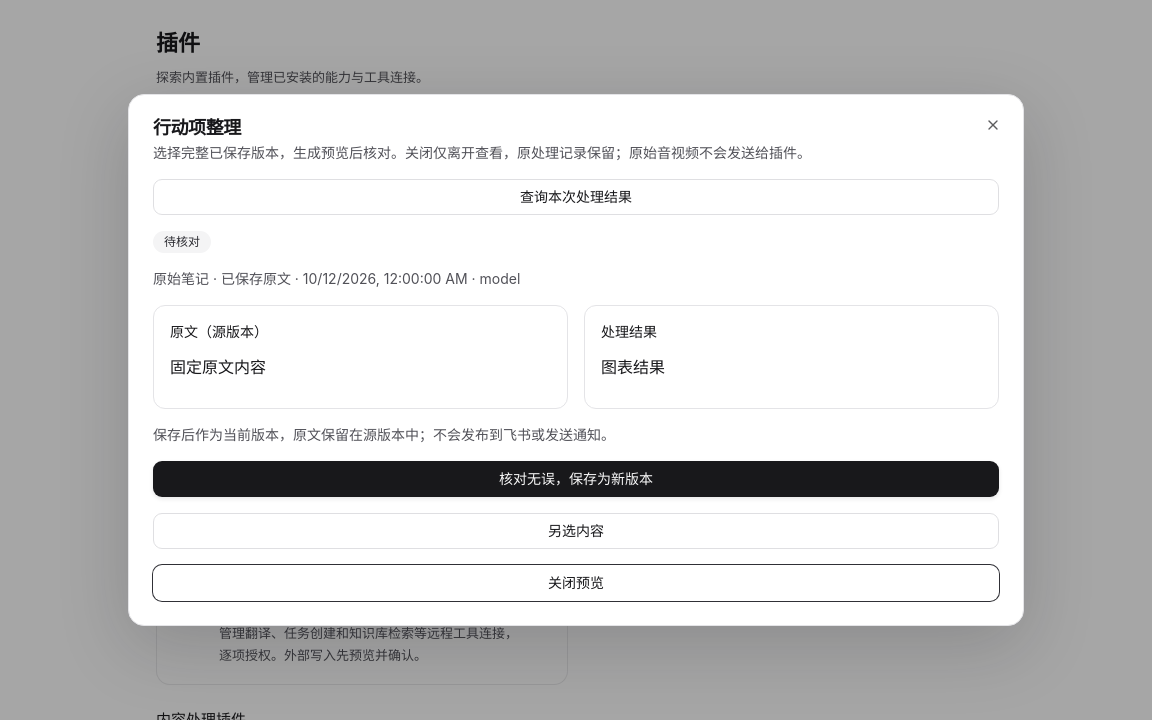
it: retains an uncertain save, disables resubmission until GET, and marks saved only on confirmation
The image size is (1152, 720).
Expected: the text "图表结果" is shown, [601,357,665,377]
Click the button "核对无误，保存为新版本" at (576, 479), box [153,461,999,497]
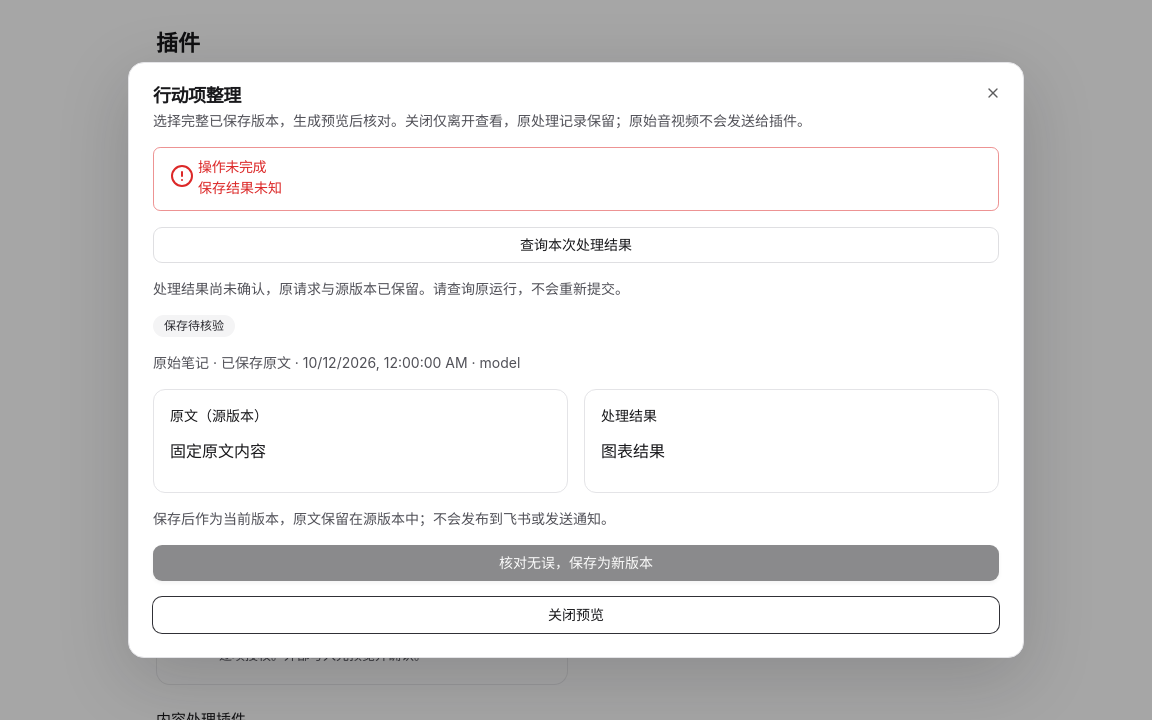
Now the text "保存结果未知" is shown, box [198,178,282,198]
Now the button "核对无误，保存为新版本" is disabled, box [153,545,999,581]
Click the button "查询本次处理结果" at (576, 245), box [153,227,999,263]
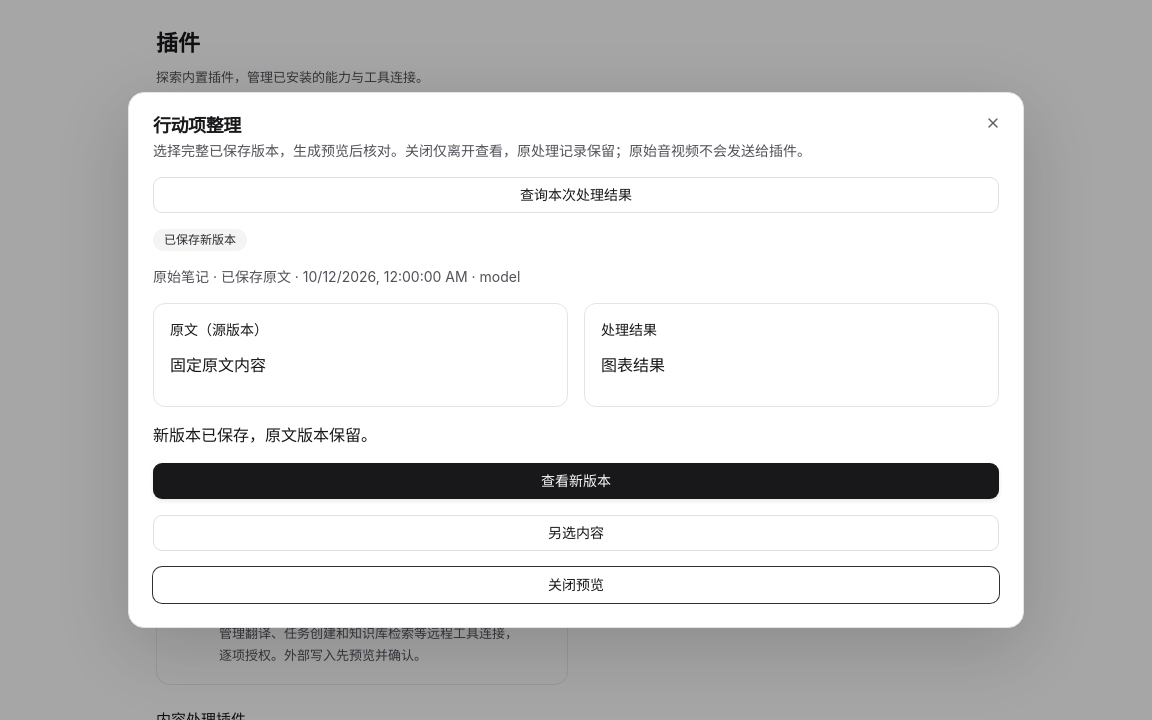
Now the text "新版本已保存，原文版本保留。" is shown, box [153,425,377,445]
